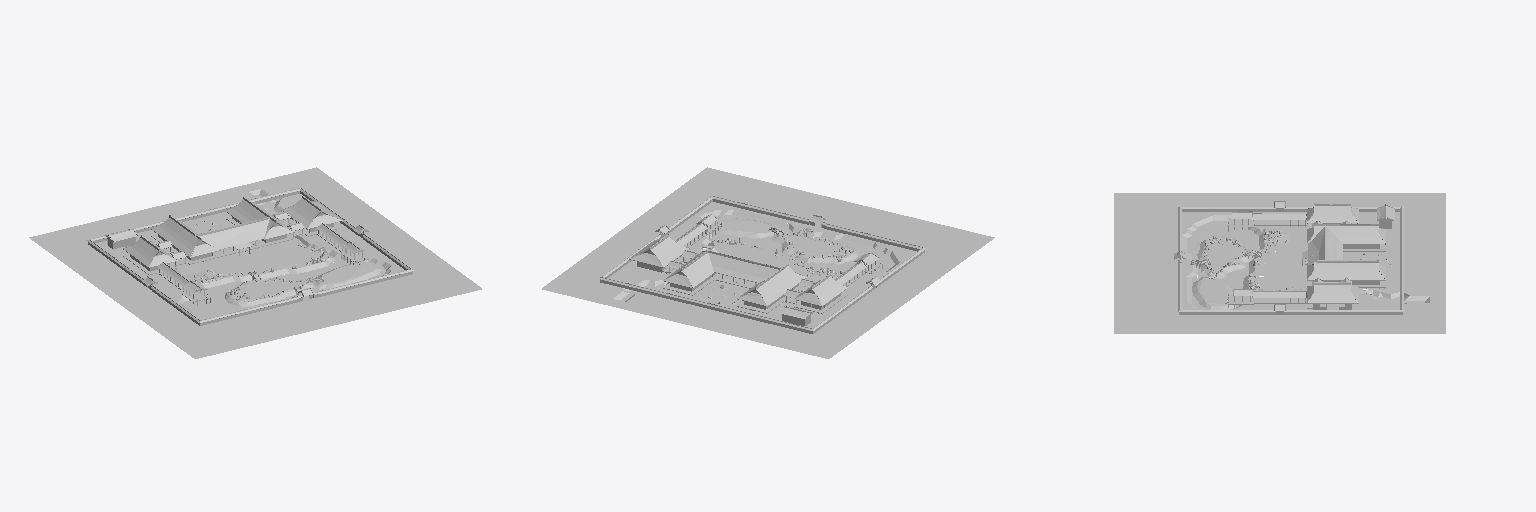
Rendered from terrain-collision.obj.
The picture shows the model from 3 angles: view 1: azimuth 30°, elevation 25°; view 2: azimuth 150°, elevation 25°; view 3: azimuth 270°, elevation 25°; orthographic projection.
Parts seen in each view (by area): view 1: 白玉楼_mesh_白玉楼; view 2: 白玉楼_mesh_白玉楼; view 3: 白玉楼_mesh_白玉楼.
Boxes of the visible parts, x1=… form: 白玉楼_mesh_白玉楼: x1=29, y1=167, x2=481, y2=358; 白玉楼_mesh_白玉楼: x1=542, y1=167, x2=994, y2=358; 白玉楼_mesh_白玉楼: x1=1114, y1=193, x2=1445, y2=333.
Size of the model in its own units: 150 by 13.81 by 150.